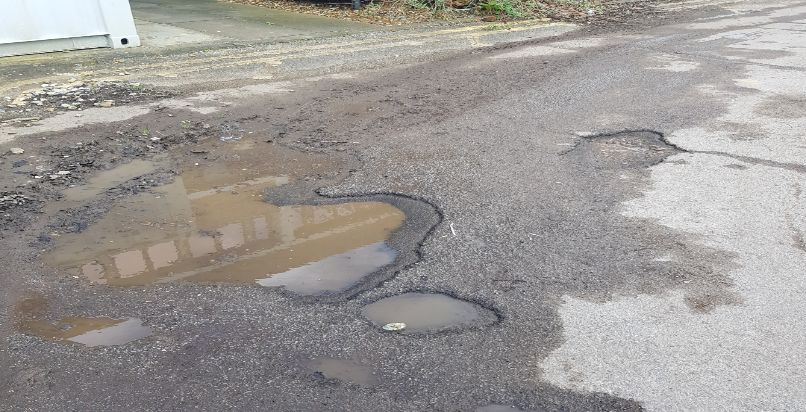pothole: (18, 103, 450, 315), (346, 284, 508, 341), (555, 122, 690, 170)
